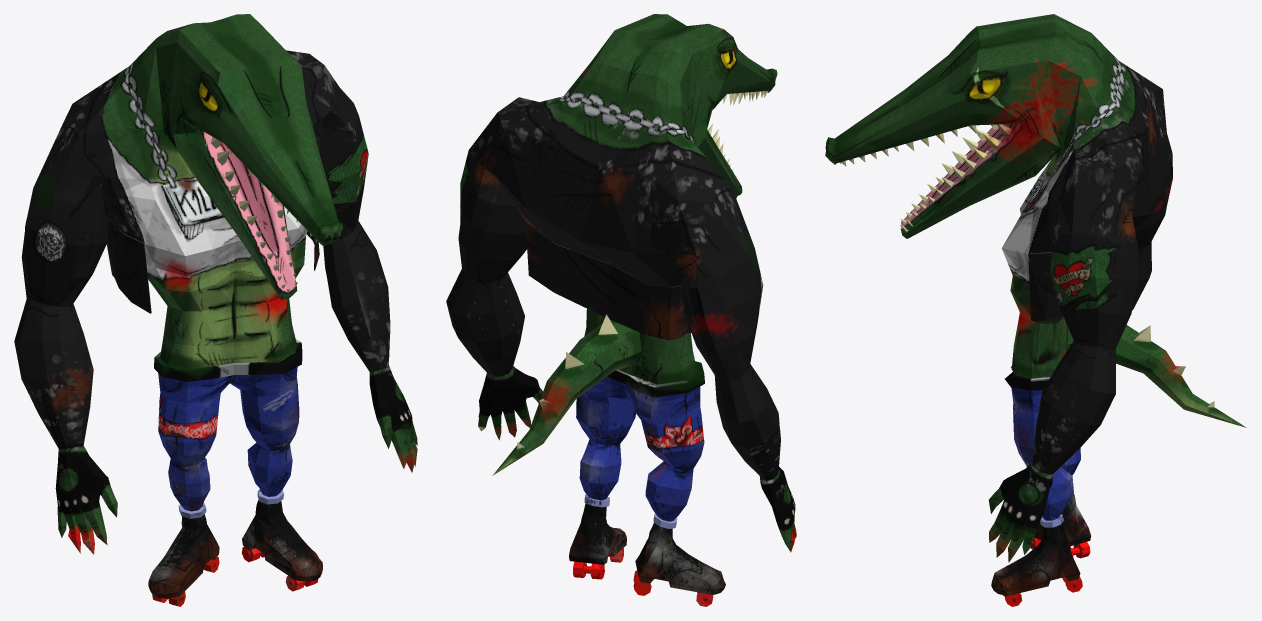
The model's file is cocodrilaBonesSelect_000003.obj.
The picture shows the model from 3 angles, left to right: view 1: azimuth 30°, elevation 25°; view 2: azimuth 150°, elevation 25°; view 3: azimuth 270°, elevation 25°; orthographic projection. The views are drawn at different scales.
Parts seen in each view (by area): view 1: Crocodile.002_Cylinder.002; view 2: Crocodile.002_Cylinder.002; view 3: Crocodile.002_Cylinder.002.
Part boxes in pixels (<box>): Crocodile.002_Cylinder.002: <box>14,14,417,606</box>; Crocodile.002_Cylinder.002: <box>446,14,796,606</box>; Crocodile.002_Cylinder.002: <box>825,14,1246,606</box>.
Bounding box in the file's own units: 4.25 × 6.68 × 4.71.
